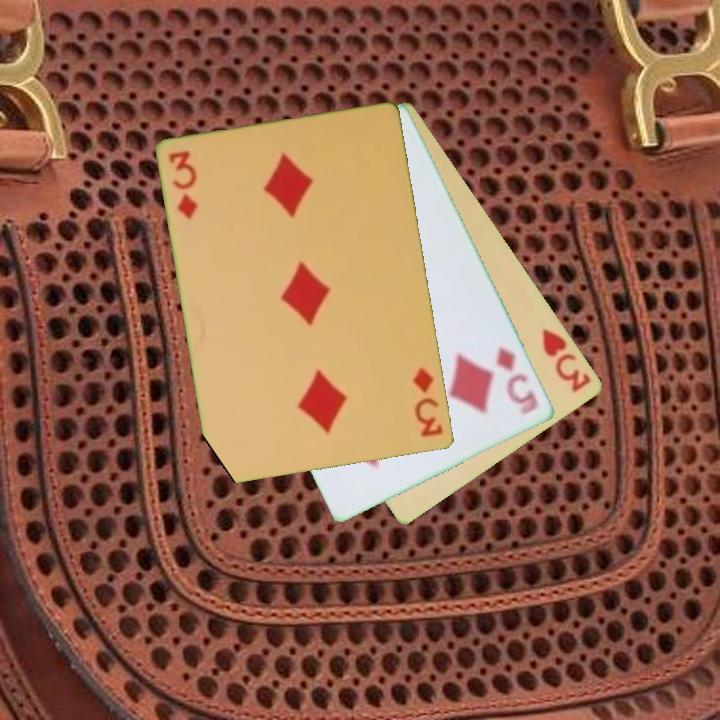3d: (410, 364, 447, 441), (166, 147, 201, 222)
3h: (539, 325, 594, 396)
5d: (493, 342, 542, 418)
